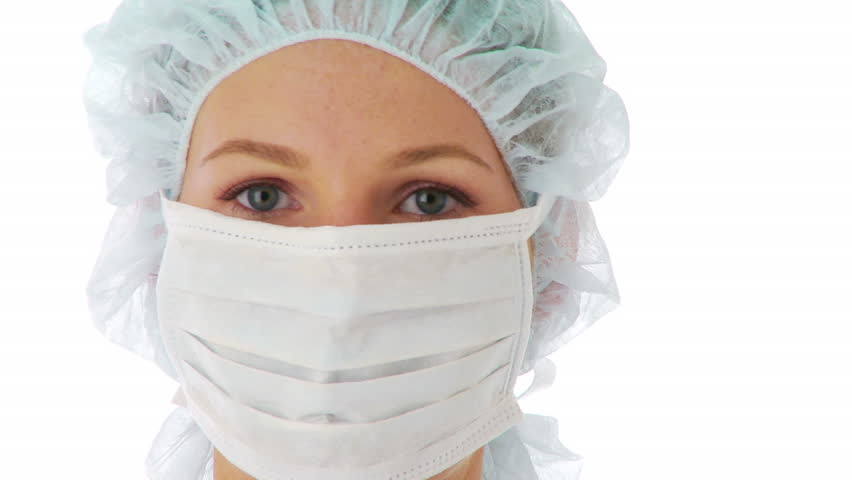mask: (157, 210, 542, 477)
